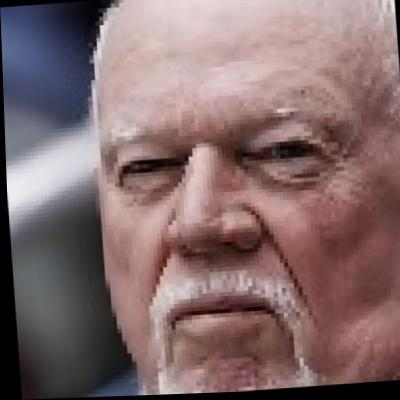angry: (90, 0, 400, 397)
